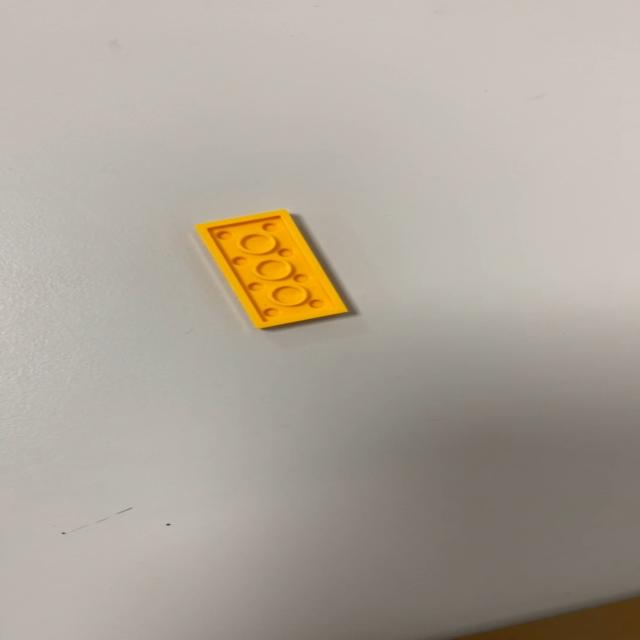C4x2x0: (193, 210, 349, 332)
